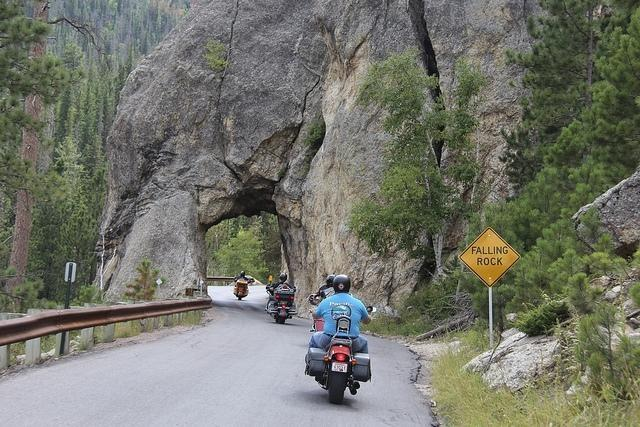motorcycle: (305, 315, 371, 404), (266, 275, 298, 324), (308, 304, 324, 334), (233, 278, 250, 300), (308, 294, 315, 302)
